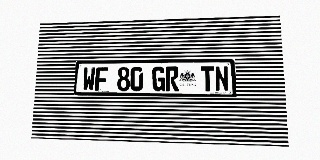0: (130, 67, 143, 91)
8: (117, 67, 130, 91)
F: (95, 67, 108, 91)
G: (152, 66, 165, 91)
N: (214, 66, 229, 91)
R: (166, 66, 179, 91)
T: (200, 66, 215, 91)
W: (82, 67, 95, 91)
